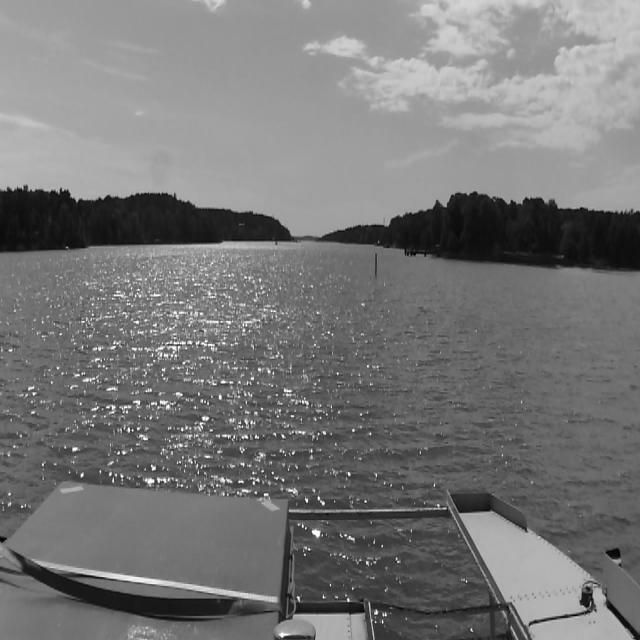buoy: (374, 250, 378, 282)
ship: (274, 239, 278, 246)
